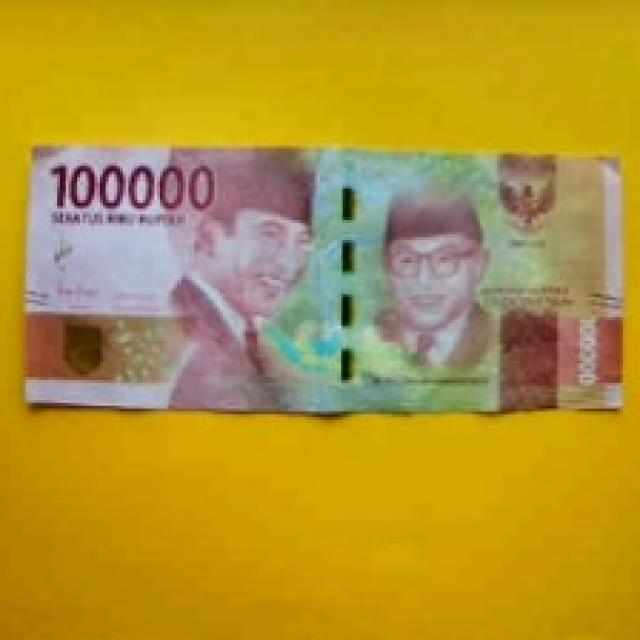lima puluh ribu rupiah: (0, 123, 640, 430)
